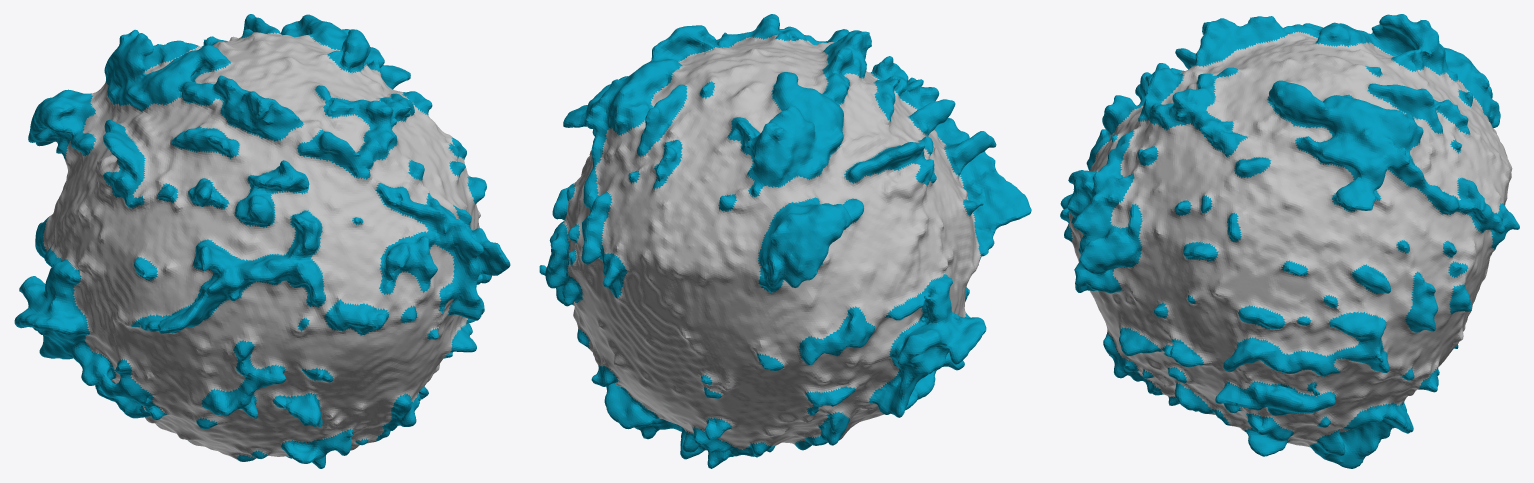
3 renders of one model, left to right at view 1: azimuth 30°, elevation 25°; view 2: azimuth 150°, elevation 25°; view 3: azimuth 270°, elevation 25°, orthographic. The views are drawn at different scales.
Bounding box in the file's own units: 167 × 148 × 161.
